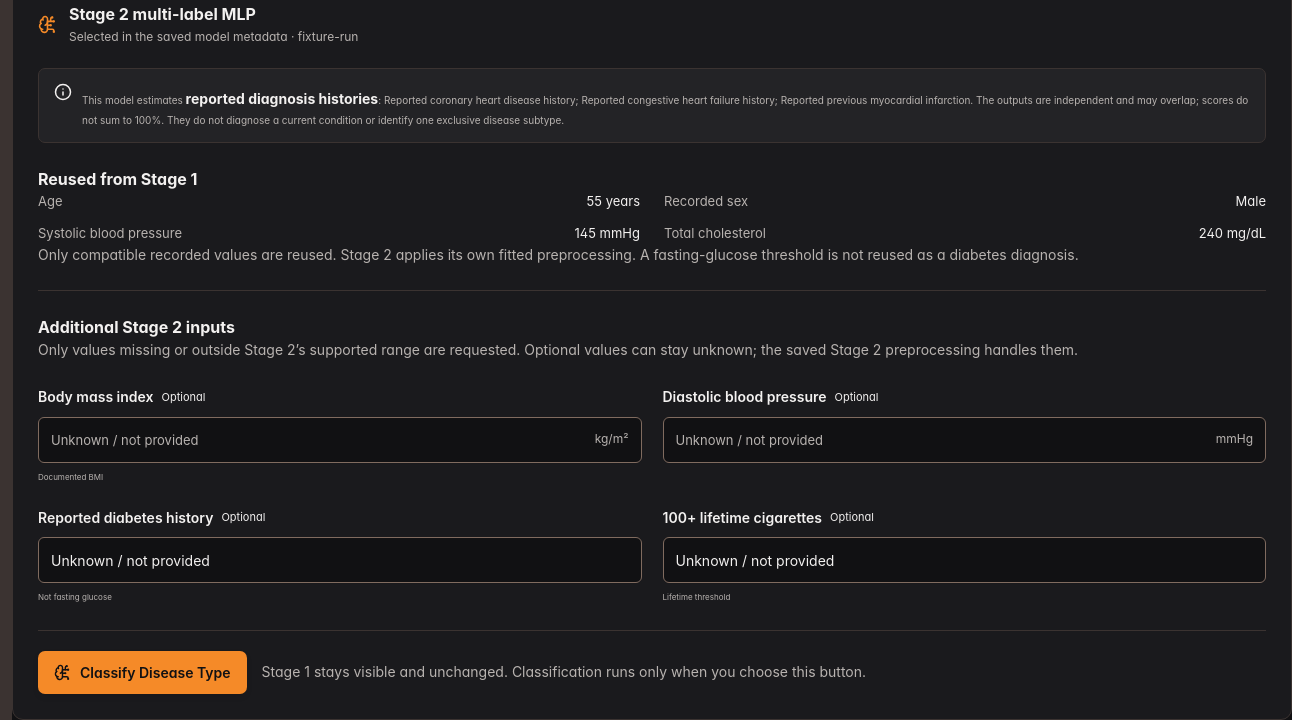
it: Stage 2 extension › allows unknown optional values and uses the real Stage 2 imputation path
(page scrolled)
What coordinates should you click on to do the following:
click the button "Classify Disease Type"
I would click on:
 (142, 672)
Its box is left=38, top=651, right=247, bottom=694.
(page scrolled)
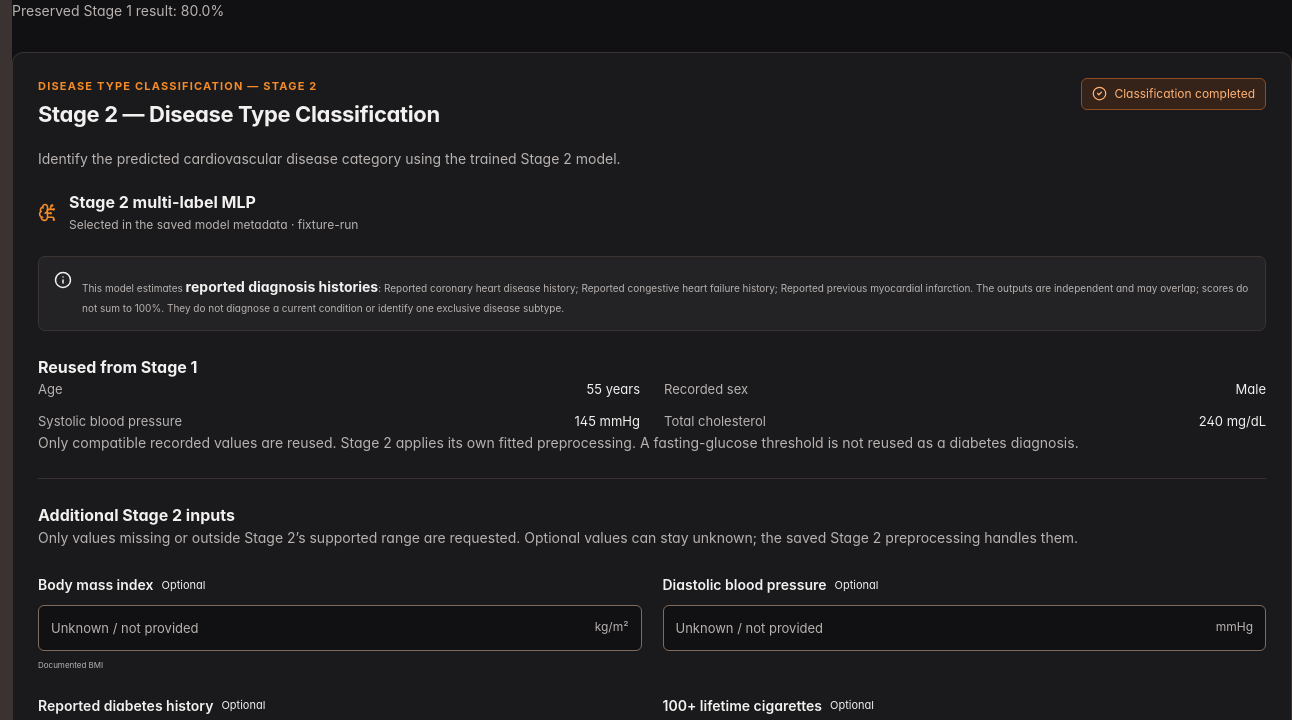
Check: the text "Classification completed" is shown, box left=1081, top=78, right=1266, bottom=110
